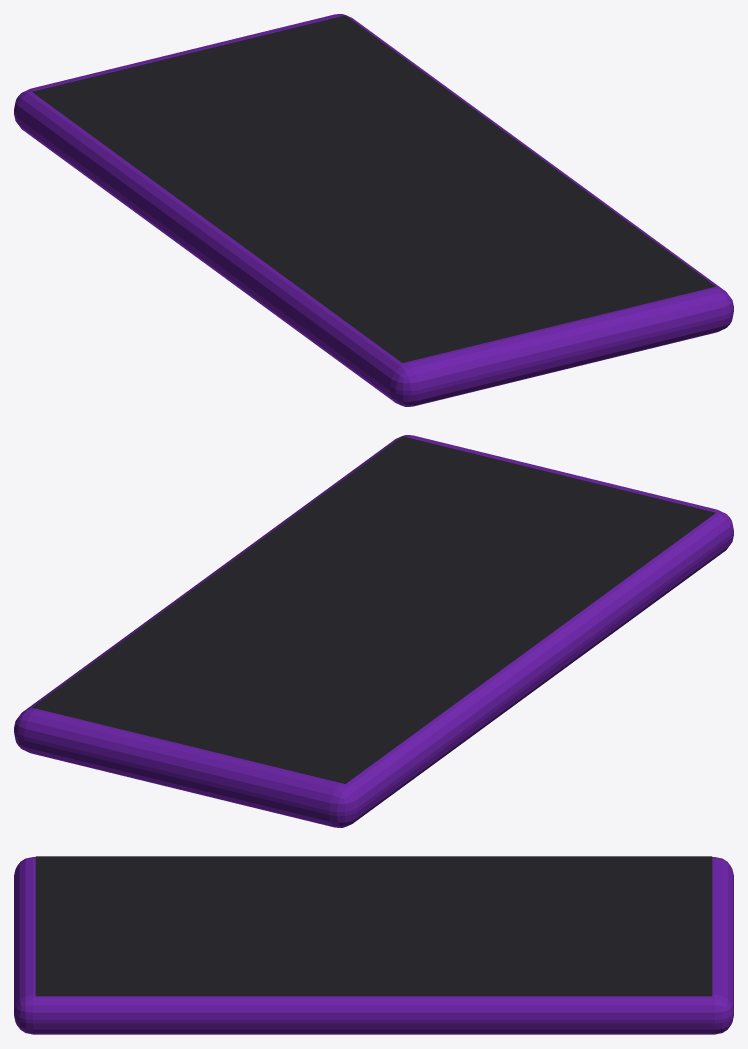
File: Phone_726.glb
3 views of the same model, one above another, from view 1: azimuth 30°, elevation 25°; view 2: azimuth 150°, elevation 25°; view 3: azimuth 270°, elevation 25° (orthographic). The views are drawn at different scales.
Parts seen in each view (by area): view 1: Phone_Screen, Phone_Body; view 2: Phone_Screen, Phone_Body; view 3: Phone_Screen, Phone_Body.
Boxes of the visible parts, x1,y1,x2,y2 form: Phone_Screen: (32,15,715,362); Phone_Body: (14,14,733,406); Phone_Screen: (32,436,715,783); Phone_Body: (14,435,733,827); Phone_Screen: (35,856,712,996); Phone_Body: (14,857,733,1034).
Bounding box in the file's own units: 0.0771 × 0.0091 × 0.1544.
